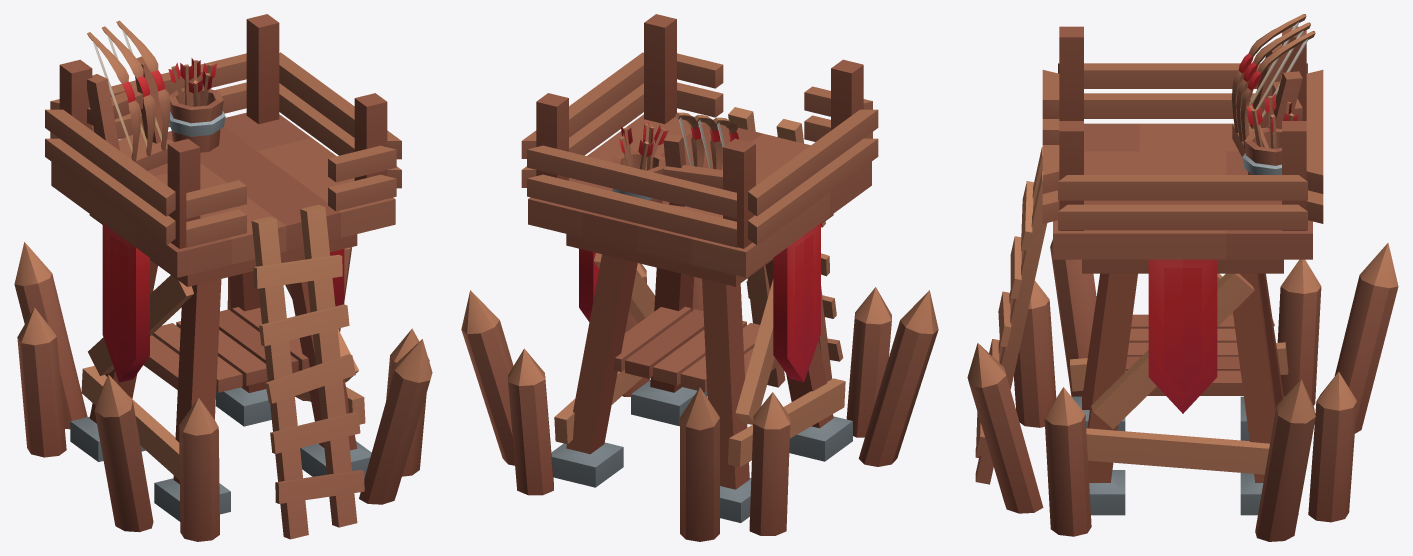
File: watchtower.glb
3 views of the same model, side by side, from view 1: azimuth 30°, elevation 25°; view 2: azimuth 150°, elevation 25°; view 3: azimuth 270°, elevation 25° (orthographic). The views are drawn at different scales.
Parts seen in each view (by area): view 1: watchtower; view 2: watchtower; view 3: watchtower.
Boxes of the visible parts, x1=… form: watchtower: x1=14, y1=14, x2=432, y2=541; watchtower: x1=461, y1=14, x2=938, y2=541; watchtower: x1=967, y1=14, x2=1398, y2=541.
Bounding box in the file's own units: 0.5225 × 0.5565 × 0.5225.
Materials: 1 (1 with a texture image).
